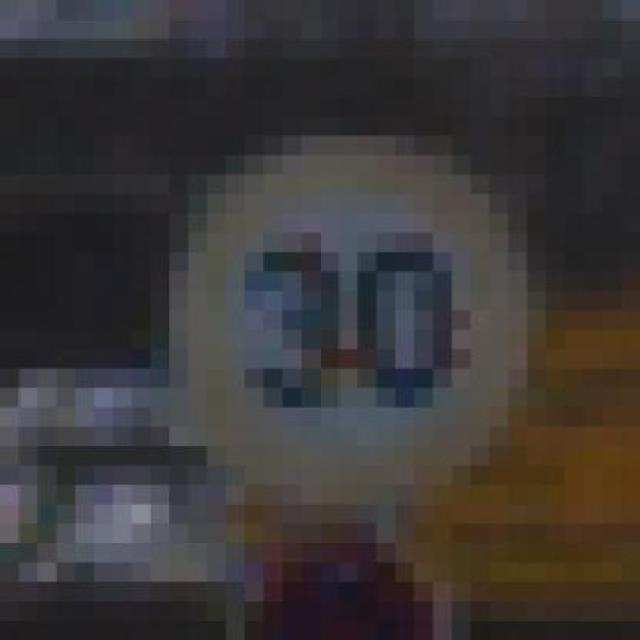Speed Limit 30 KMPh: (75, 96, 583, 524)
